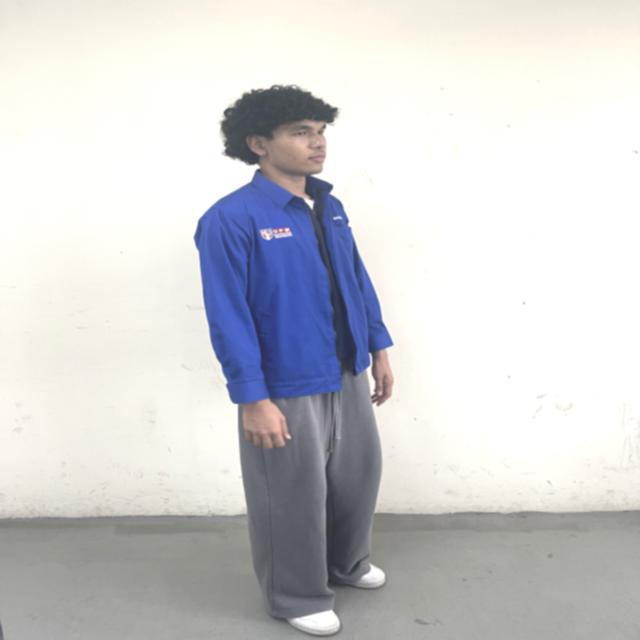person_with_labcoat: (195, 86, 394, 636)
